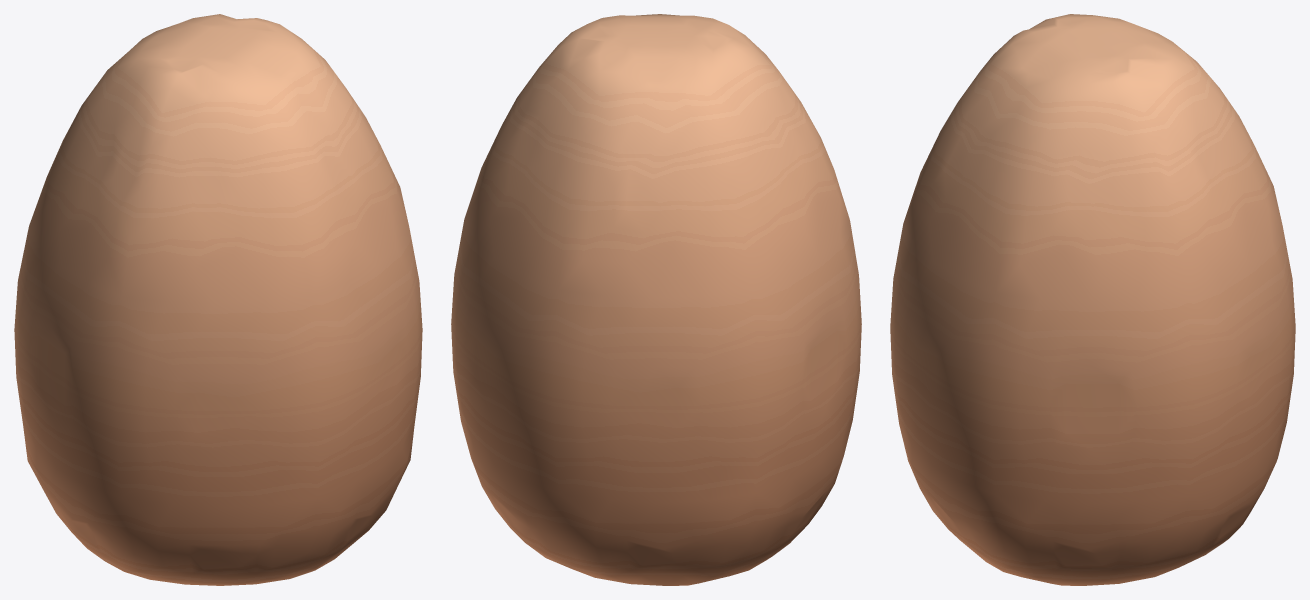
3 views of the same model, side by side, from view 1: azimuth 30°, elevation 25°; view 2: azimuth 150°, elevation 25°; view 3: azimuth 270°, elevation 25° (orthographic).
Size of the model in its own units: 0.7027 by 1 by 0.737.
Materials: 1 (1 with a texture image).
